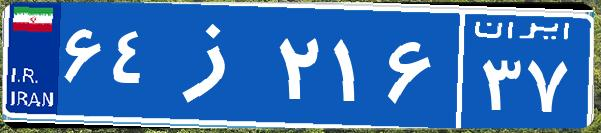1: (330, 28, 385, 110)
2: (273, 28, 330, 110)
3: (475, 38, 525, 113)
4: (110, 28, 158, 105)
6: (385, 28, 445, 110), (57, 26, 110, 107)
7: (525, 38, 570, 115)
ز: (158, 15, 273, 115)
